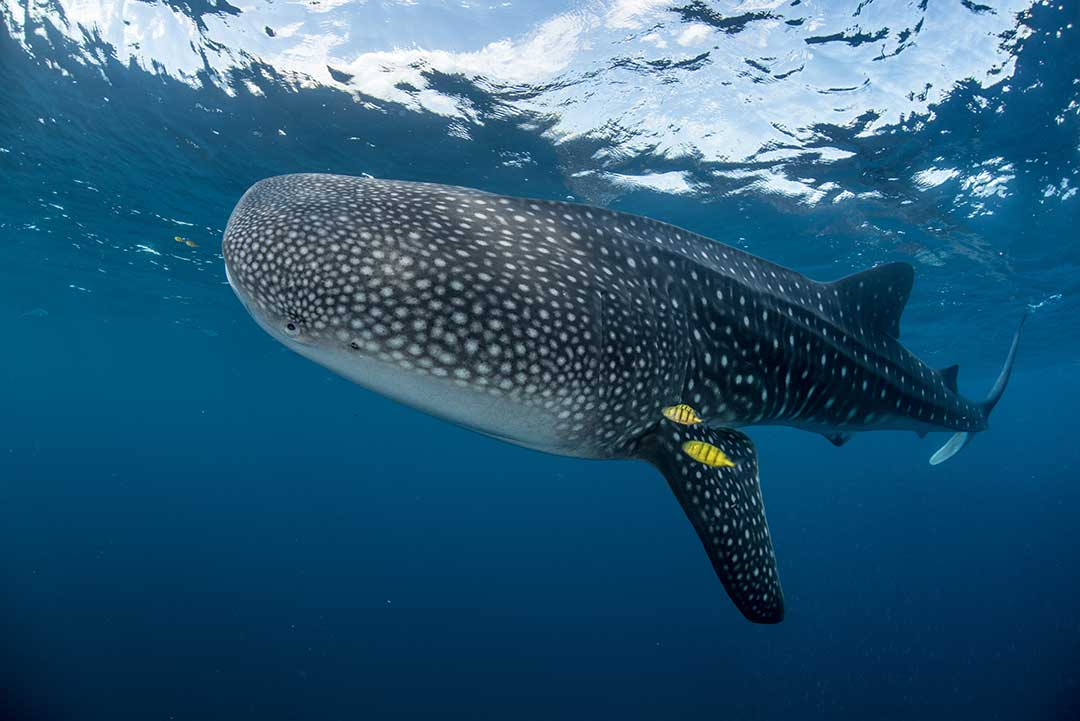shark: (214, 161, 1032, 633)
